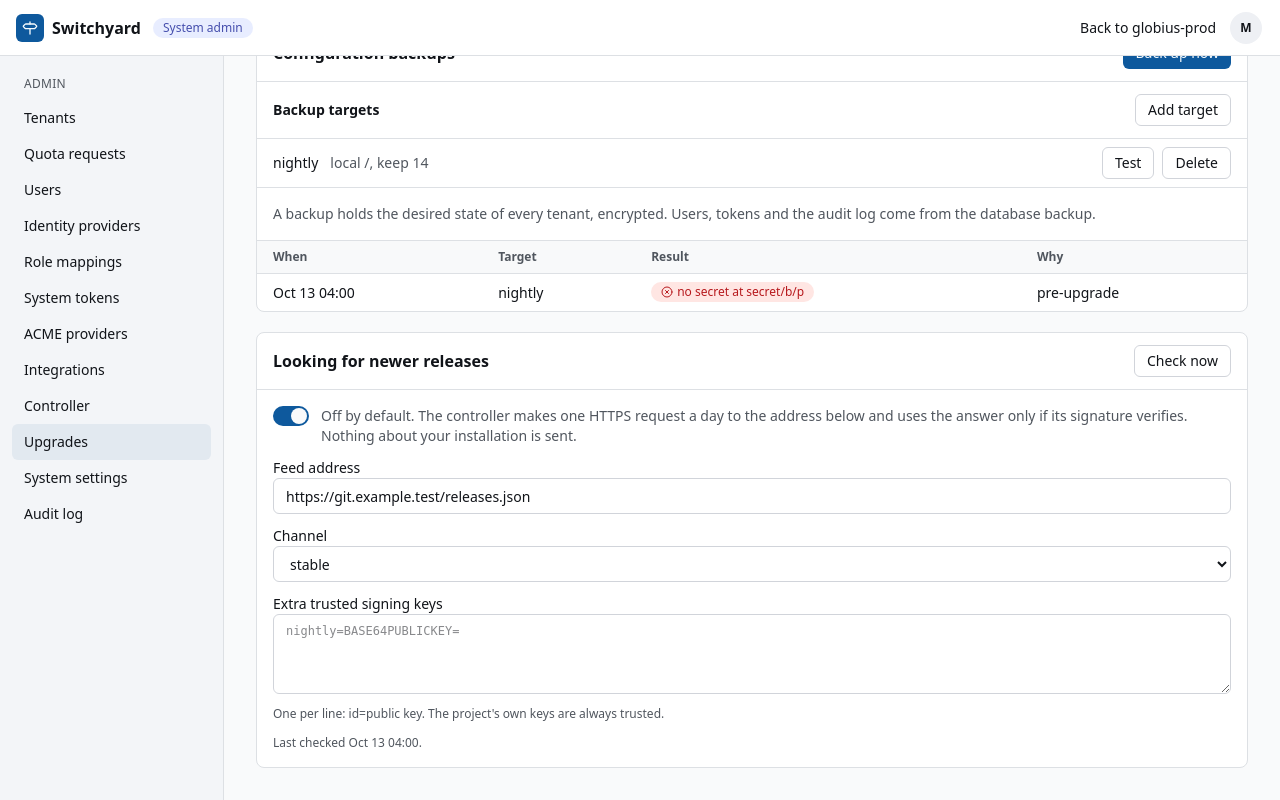
release feed channels and keys › refuses a malformed key line before sending anything
The width and height of the screenshot is (1280, 800).
(page scrolled)
Type "oops" into the text box with placeholder "nightly=BASE64PUBLICKEY=" at {"x": 752, "y": 654}, box [273,614,1231,694]
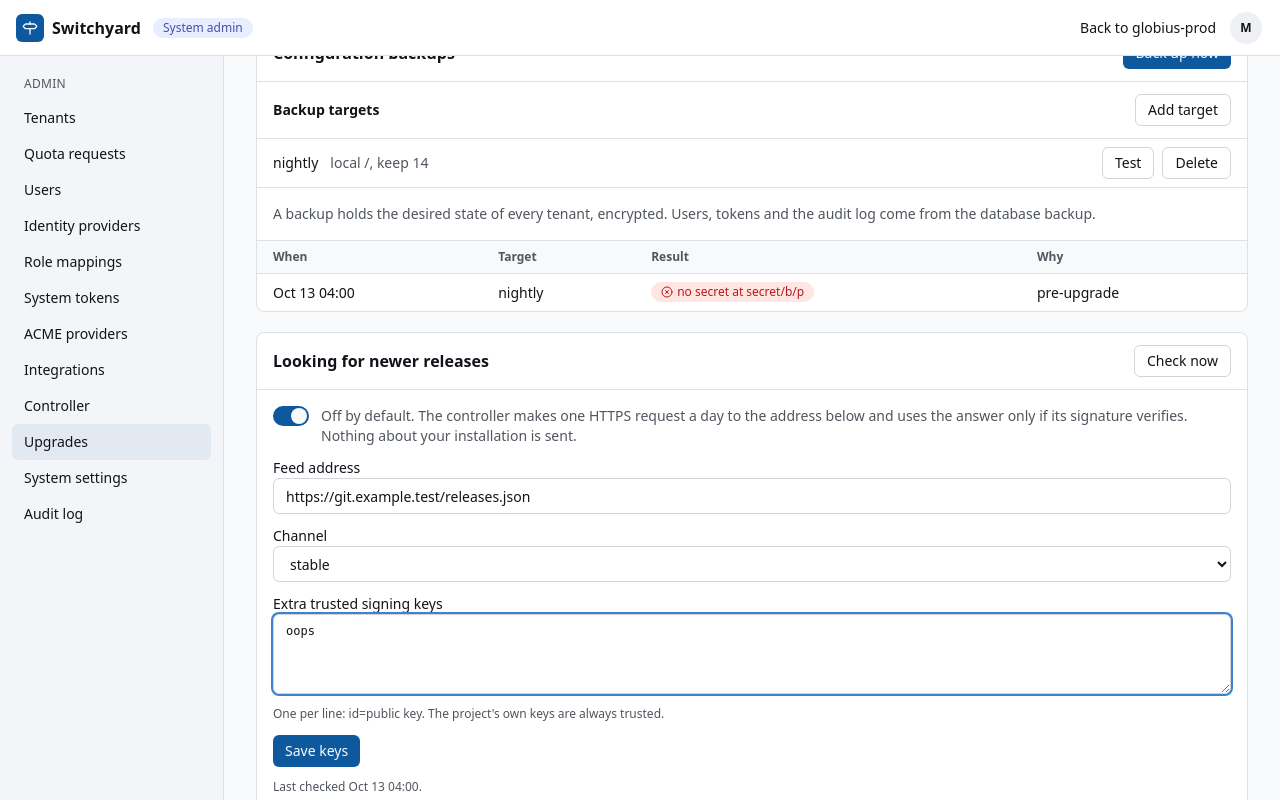
Click the button "Save keys" at {"x": 317, "y": 751}, box [273,735,360,767]
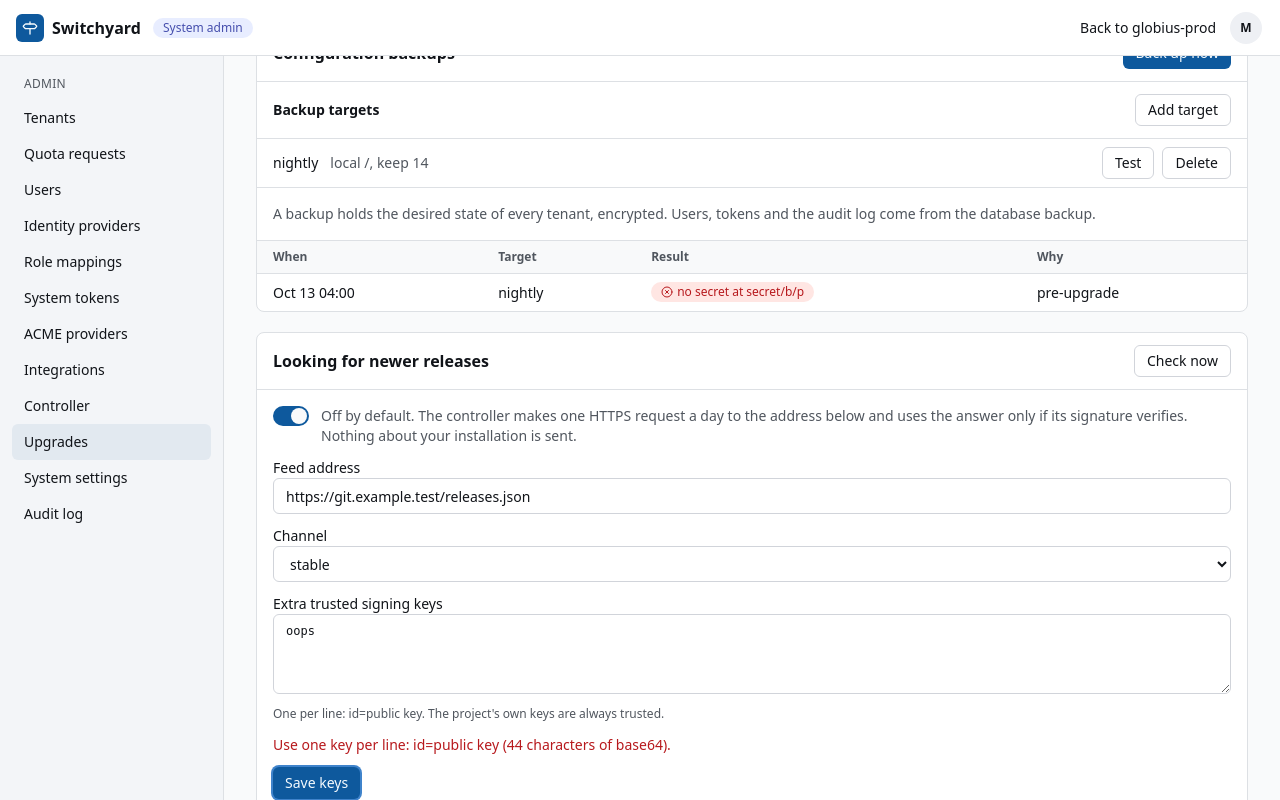
Result: the message shows "Use one key per line" at [273,735,671,754]
